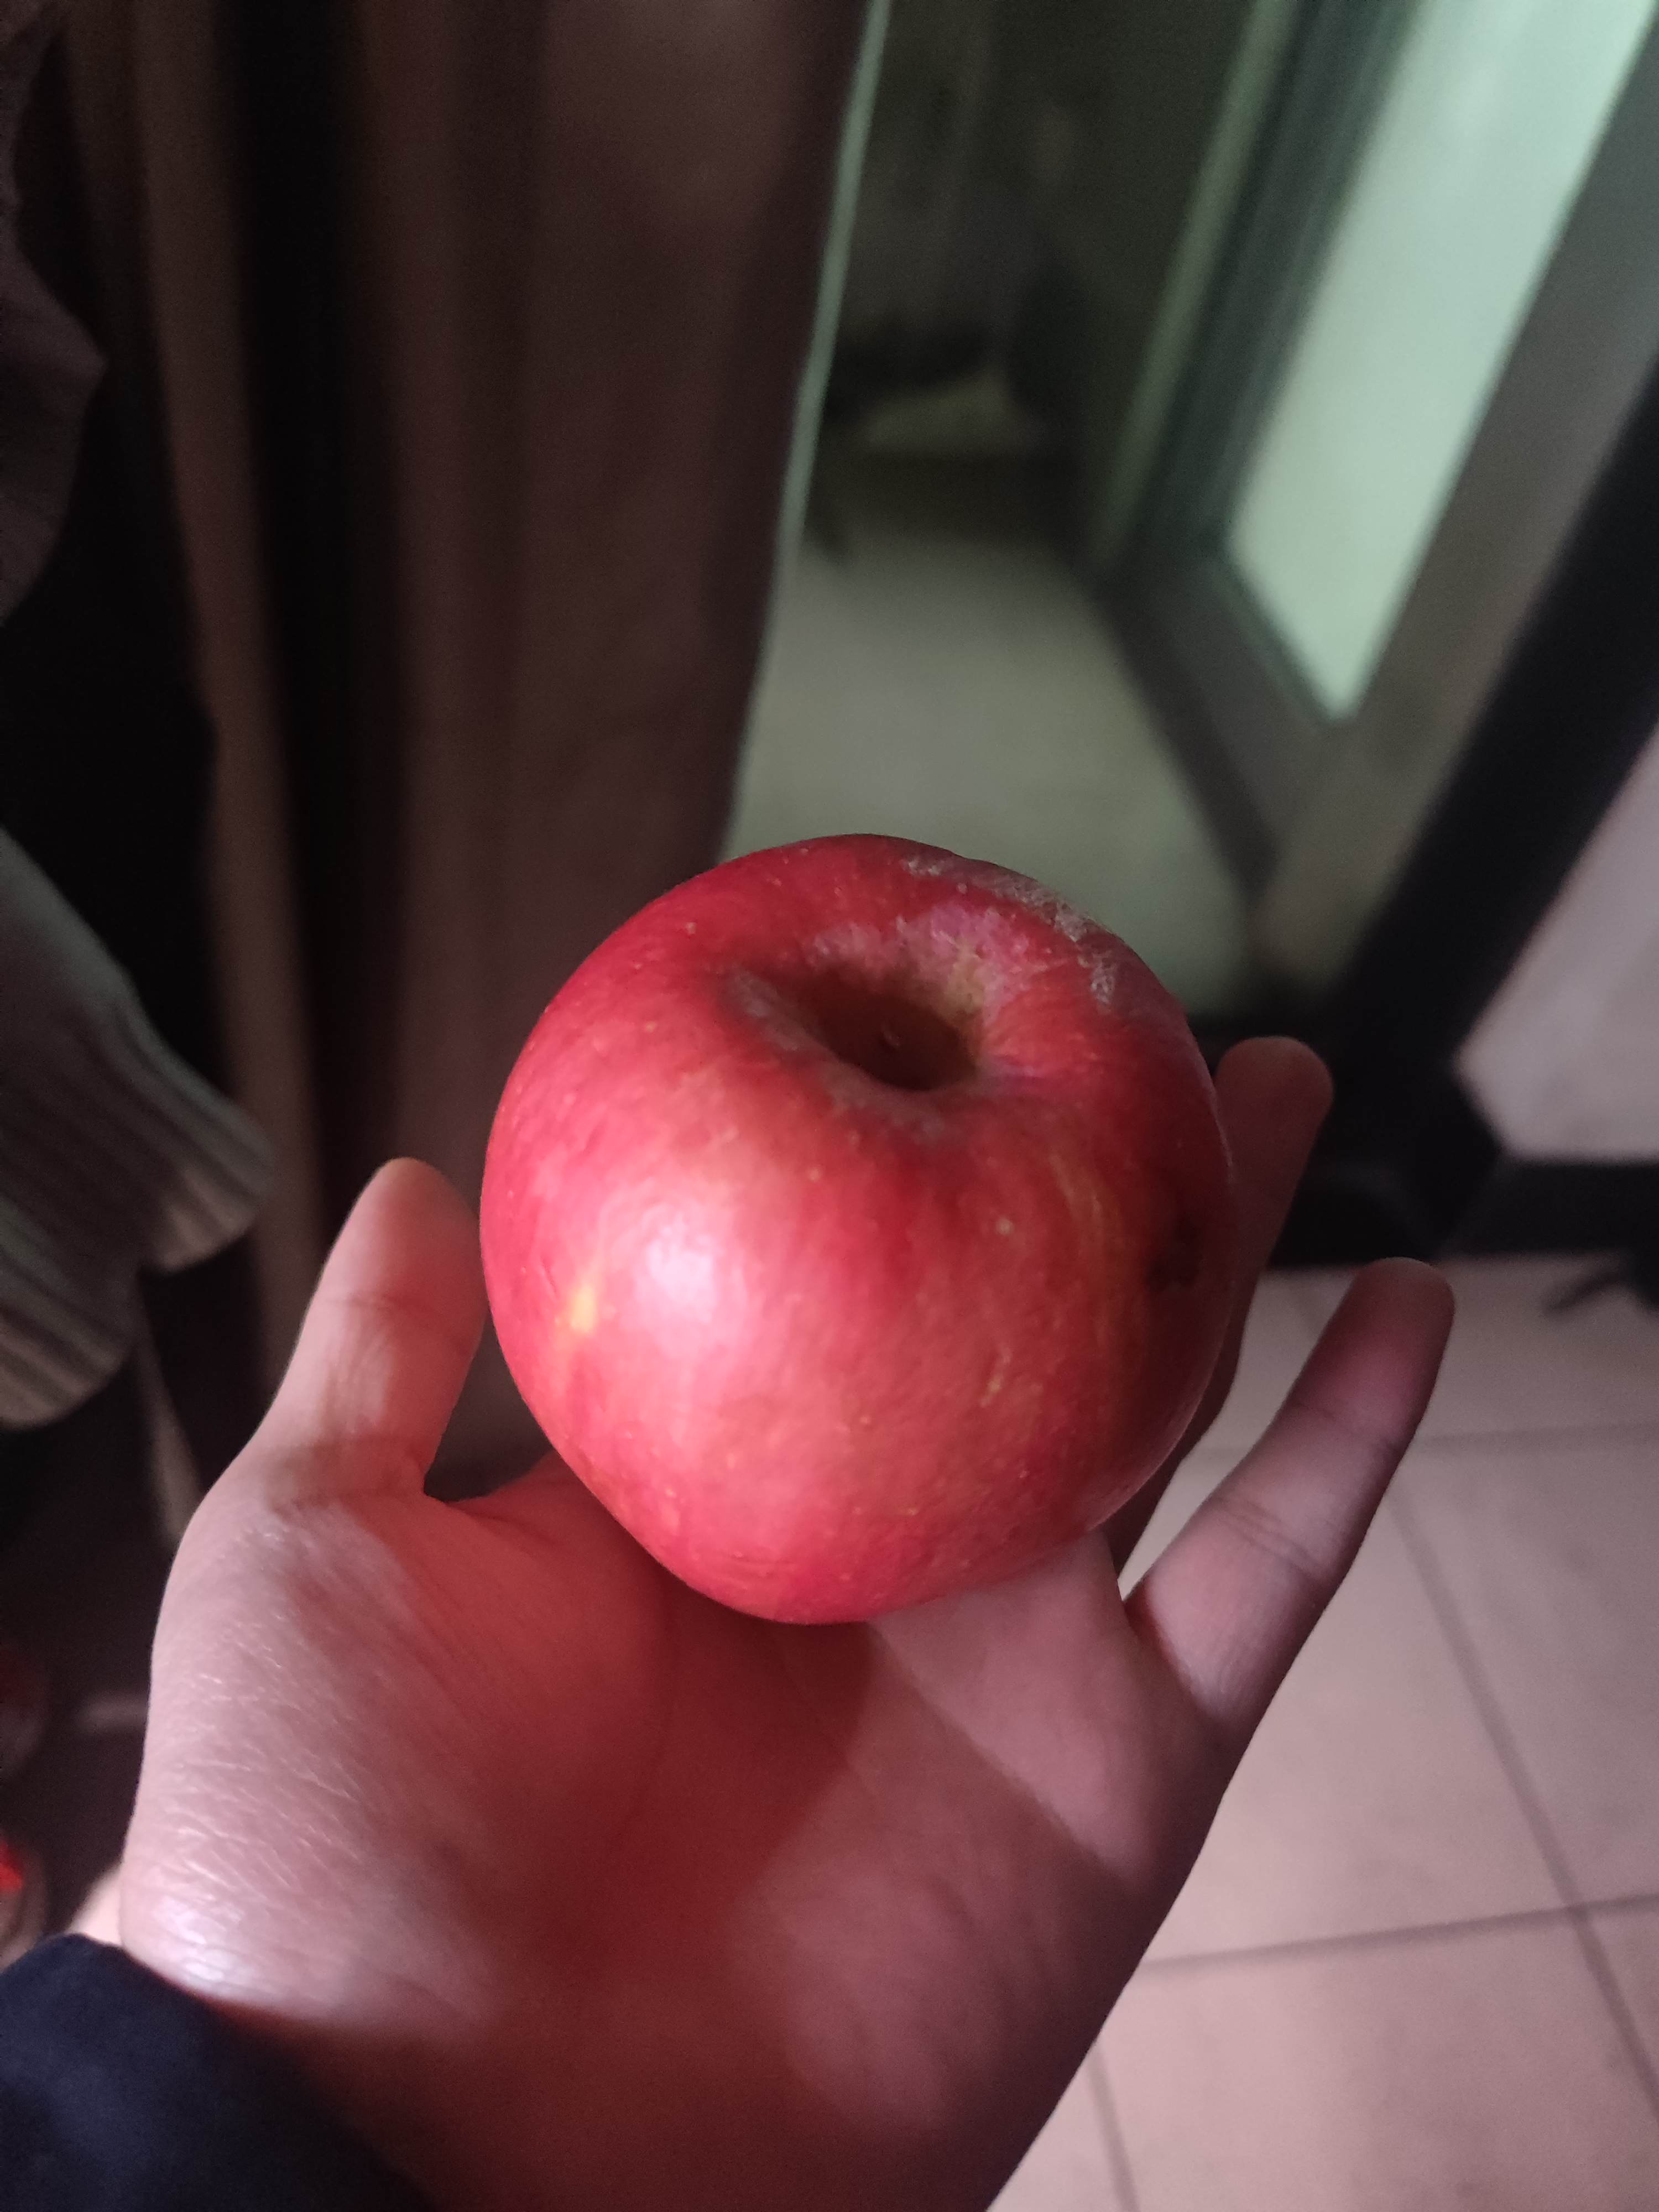apple: (462, 840, 1253, 1627)
